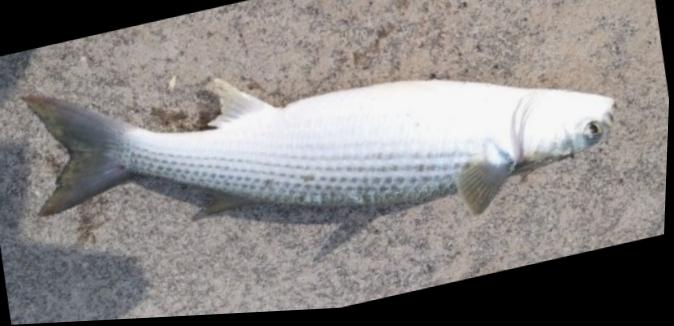fish: (29, 82, 620, 224)
